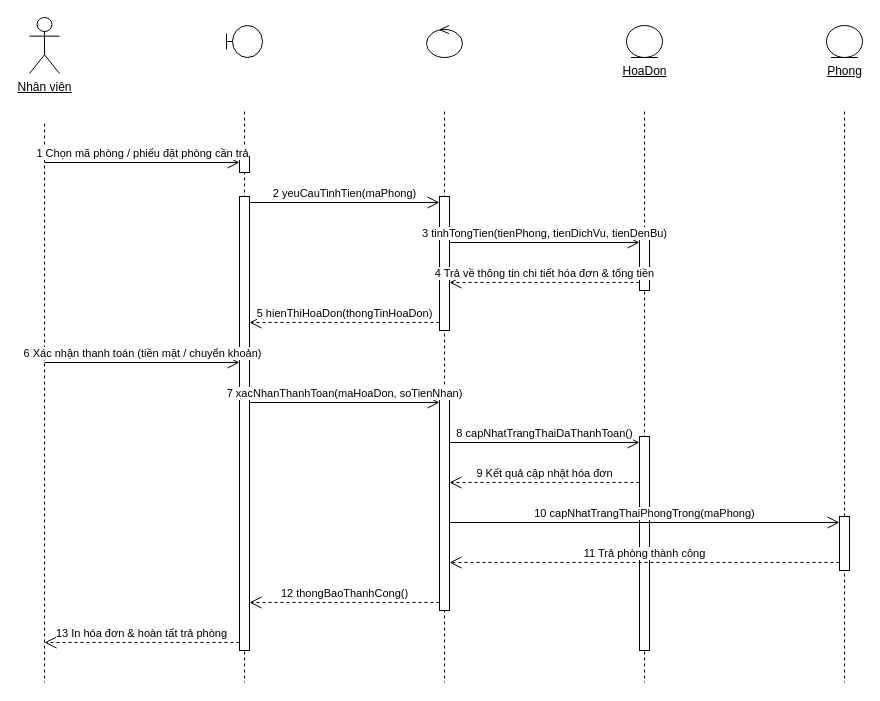
Some shapes in this 880 by 701 pixel diagram are drawn without their labels. The shapes that lost their labels are listed below. From the top down, each one's box as (x1, y1, x2, y2) in pixels, then its label:
(226, 24, 262, 58): FormTraPhong
(426, 24, 462, 58): ServiceThanhToan
